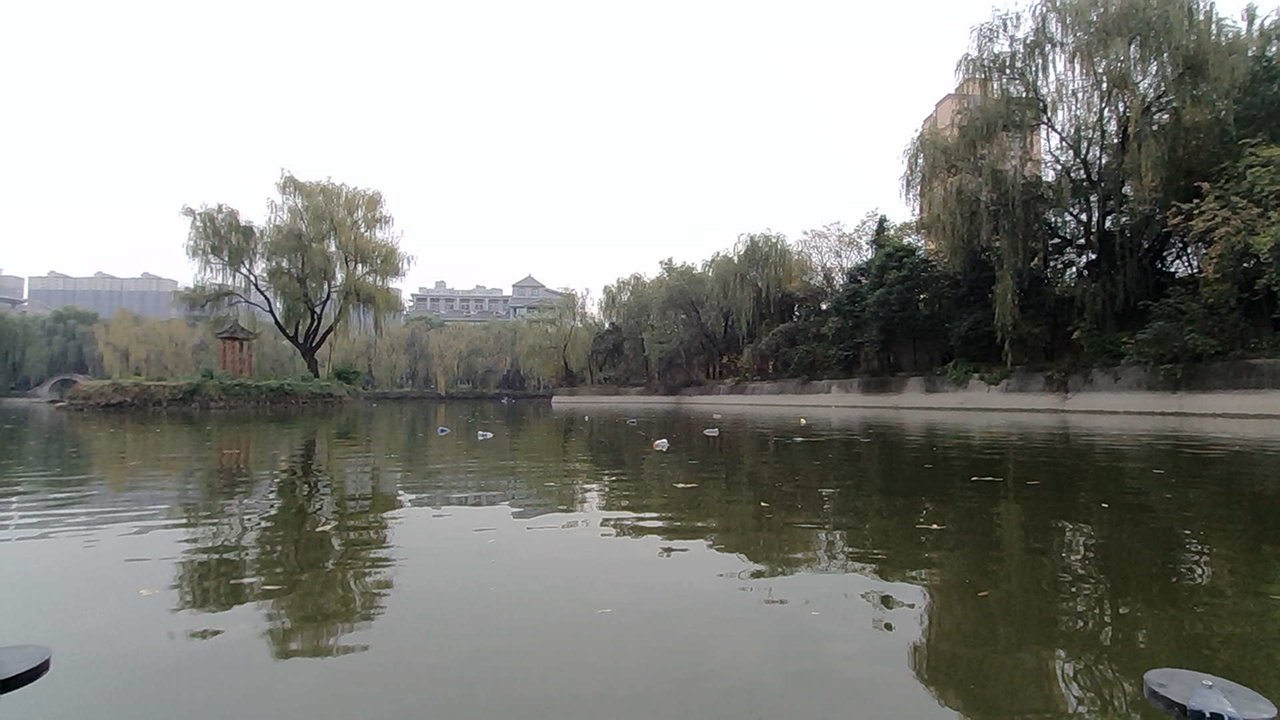bottle: (434, 411, 465, 447), (622, 403, 657, 431), (784, 408, 813, 435), (700, 415, 729, 441), (578, 406, 608, 429), (473, 419, 498, 444), (649, 435, 675, 454)
